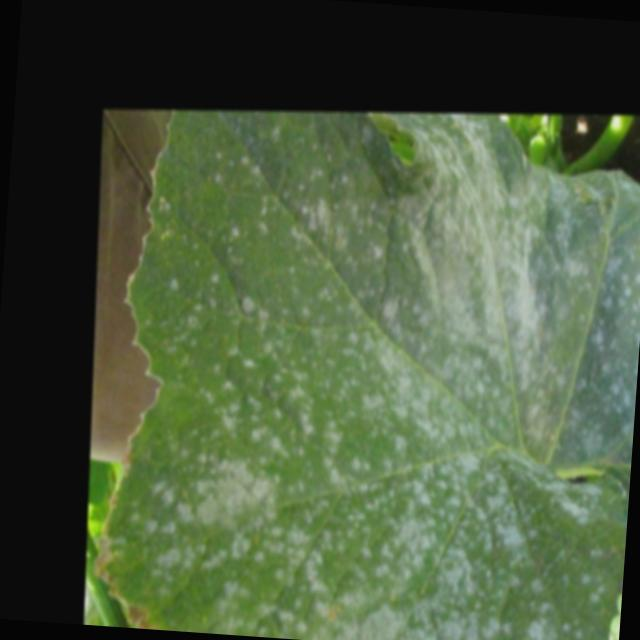Powdery_Mildew: (86, 86, 507, 640), (292, 101, 640, 640)
